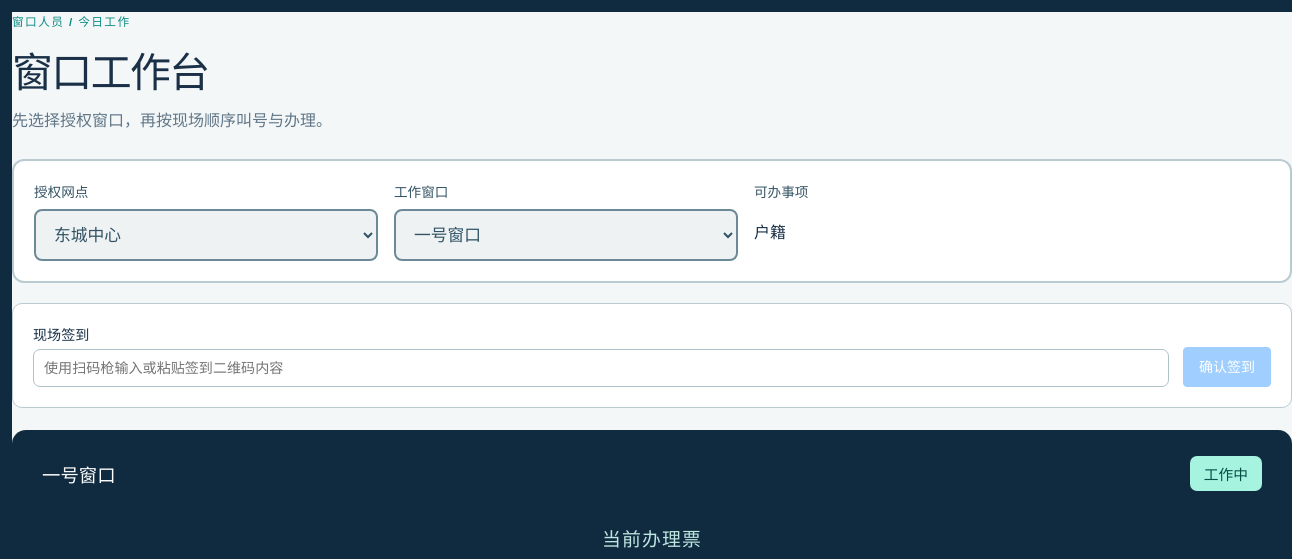
WorkbenchView › accepts a scanner token once and clears it after creating the queue ticket
The image size is (1292, 559).
Type "QR_PRIVATE_CANARY" into the password field with id "check-in-code".
click(601, 368); type("QR_PRIVATE_CANARY")  # box [33,349,1169,387]
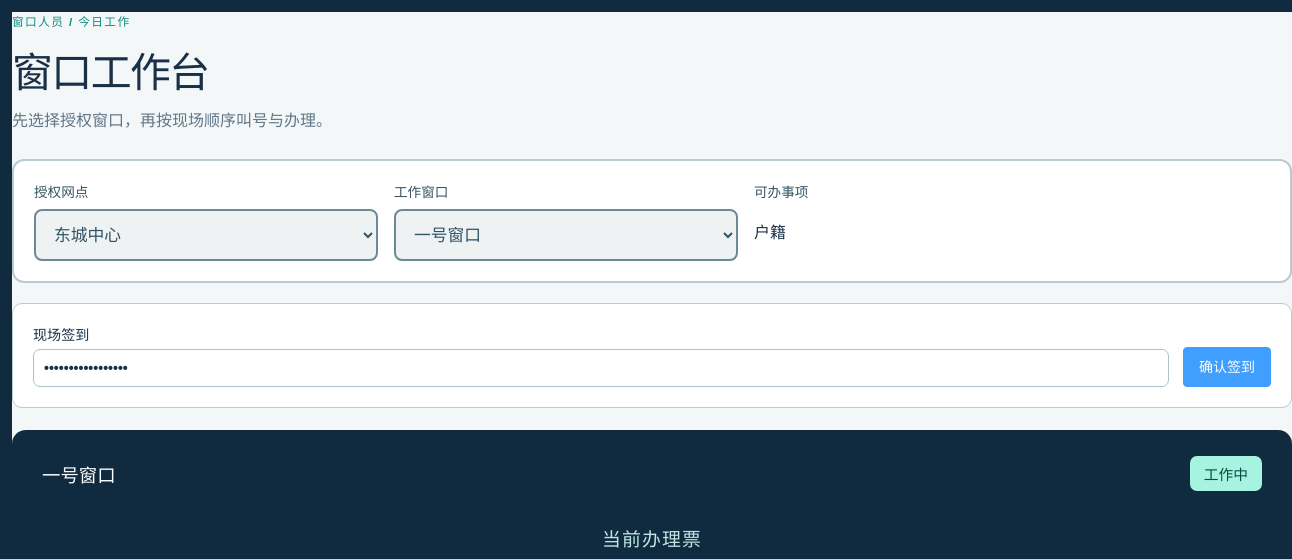
Submit the form, box [12,303,1291,408]
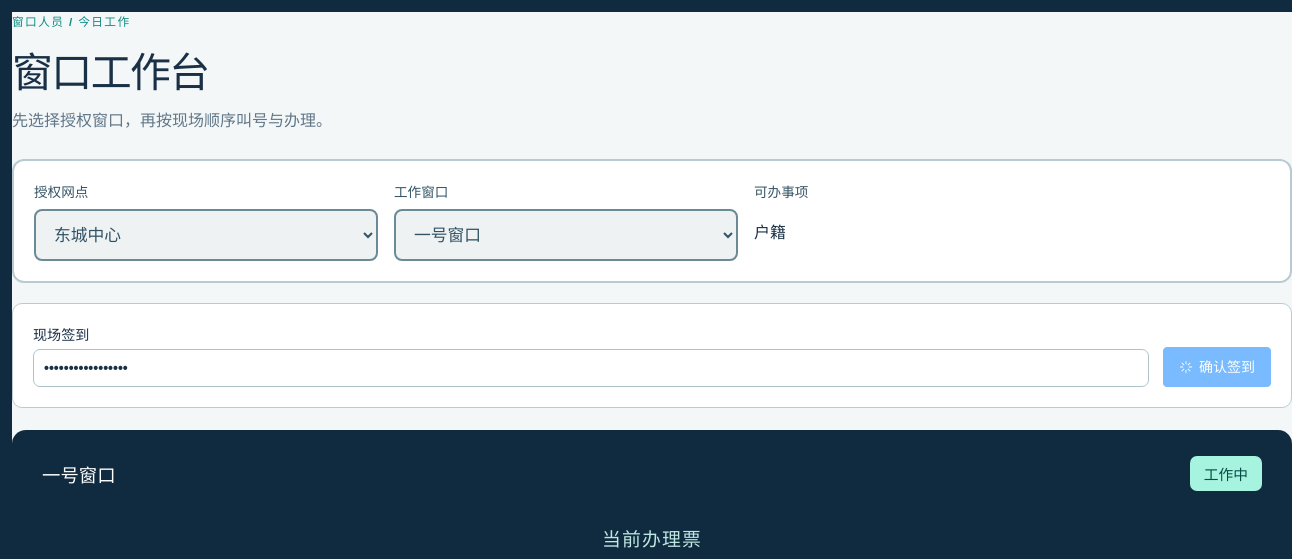
Submit the form, box [12,303,1291,408]
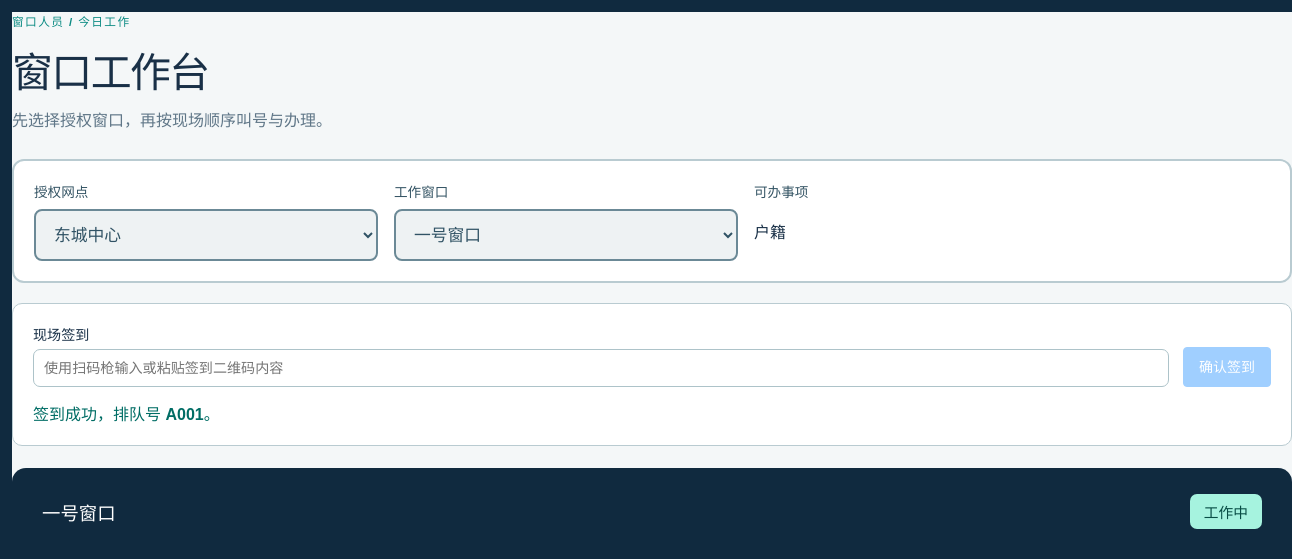
Expected: the password field with id "check-in-code" is empty, [33,349,1169,387]
Expected: the text "签到成功，排队号 A001" is shown, [33,406,220,423]
